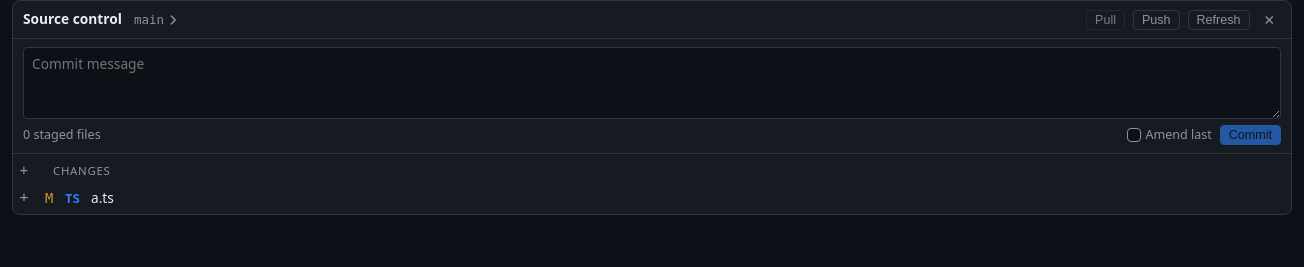
Test case: opening a file to its diff › says it is reading until the diff arrives
Click the button "M TS a.ts". click: (49, 198)
box: [35,185,1291,210]
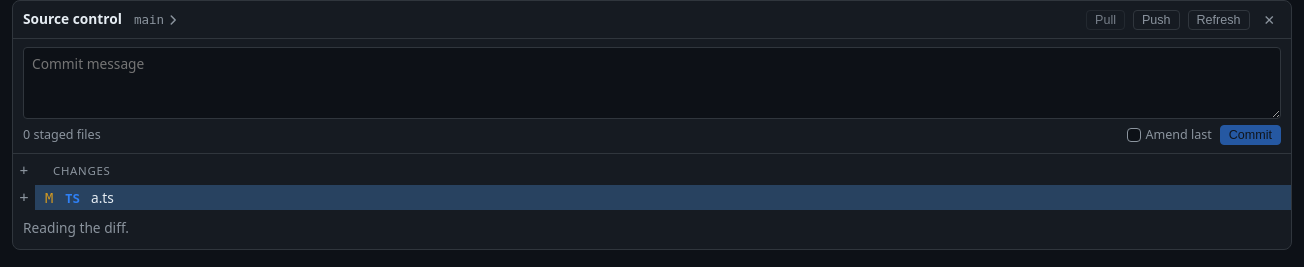
Expected: the text "Reading the diff." is shown, [23,218,129,237]
